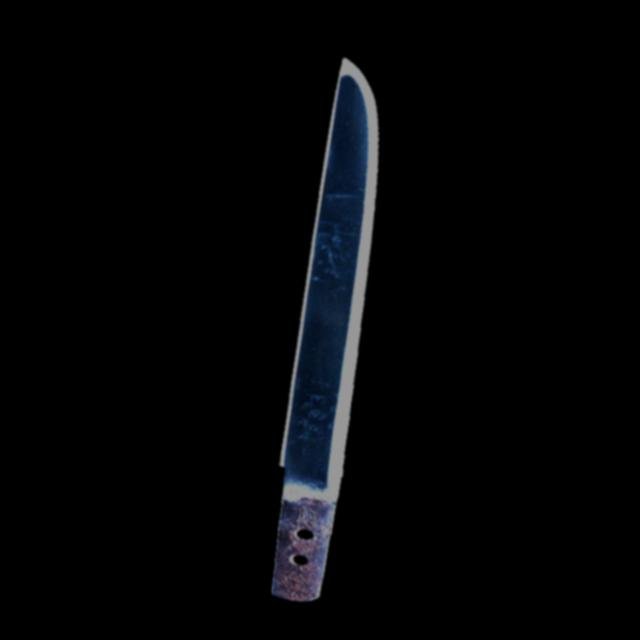short sword: (206, 39, 440, 621)
